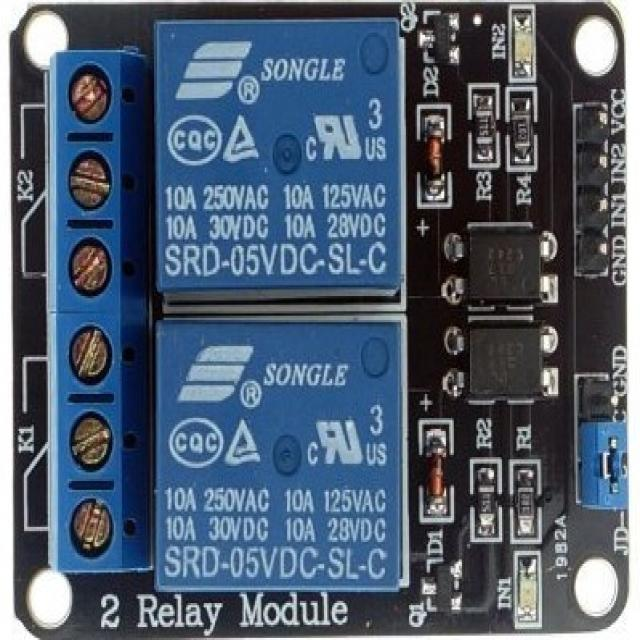4439: (426, 549, 464, 621), (420, 11, 460, 70)
IC: (450, 212, 552, 312), (448, 319, 562, 403)
LED: (514, 554, 540, 619), (511, 16, 532, 72)
connector -5v-: (49, 45, 156, 578), (574, 101, 628, 277), (577, 369, 635, 511)
diode -D1-: (424, 118, 448, 205), (428, 427, 451, 516)
relay: (154, 314, 409, 600), (155, 18, 406, 300)
resistor IR1: (511, 102, 541, 172), (476, 467, 500, 532), (513, 469, 537, 527), (473, 98, 494, 155)
